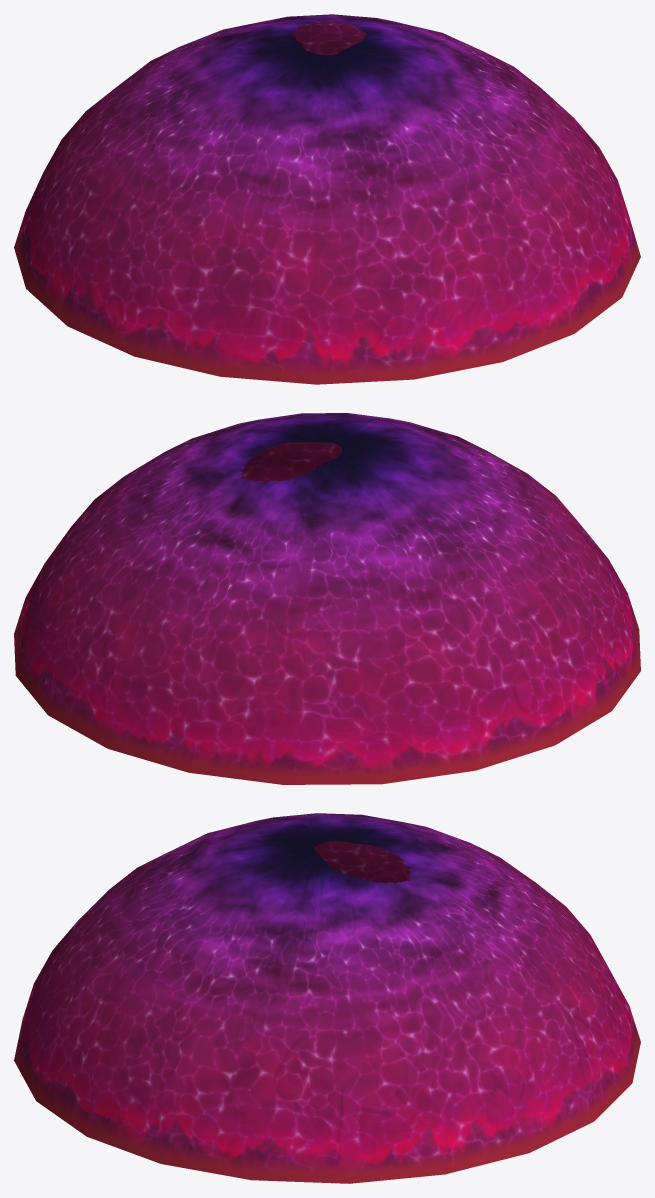
Rendered from sb_obj_sky_Barrier_Demons.fbx.
3 renders of one model, top to bottom at view 1: azimuth 30°, elevation 25°; view 2: azimuth 150°, elevation 25°; view 3: azimuth 270°, elevation 25°, orthographic.
Parts seen in each view (by area): view 1: sky; view 2: sky; view 3: sky.
Boxes of the visible parts, bbox=[...] form: sky: bbox=[14, 14, 640, 384]; sky: bbox=[14, 413, 640, 784]; sky: bbox=[14, 813, 640, 1183].
Bounding box in the file's own units: 985 × 356 × 985.
